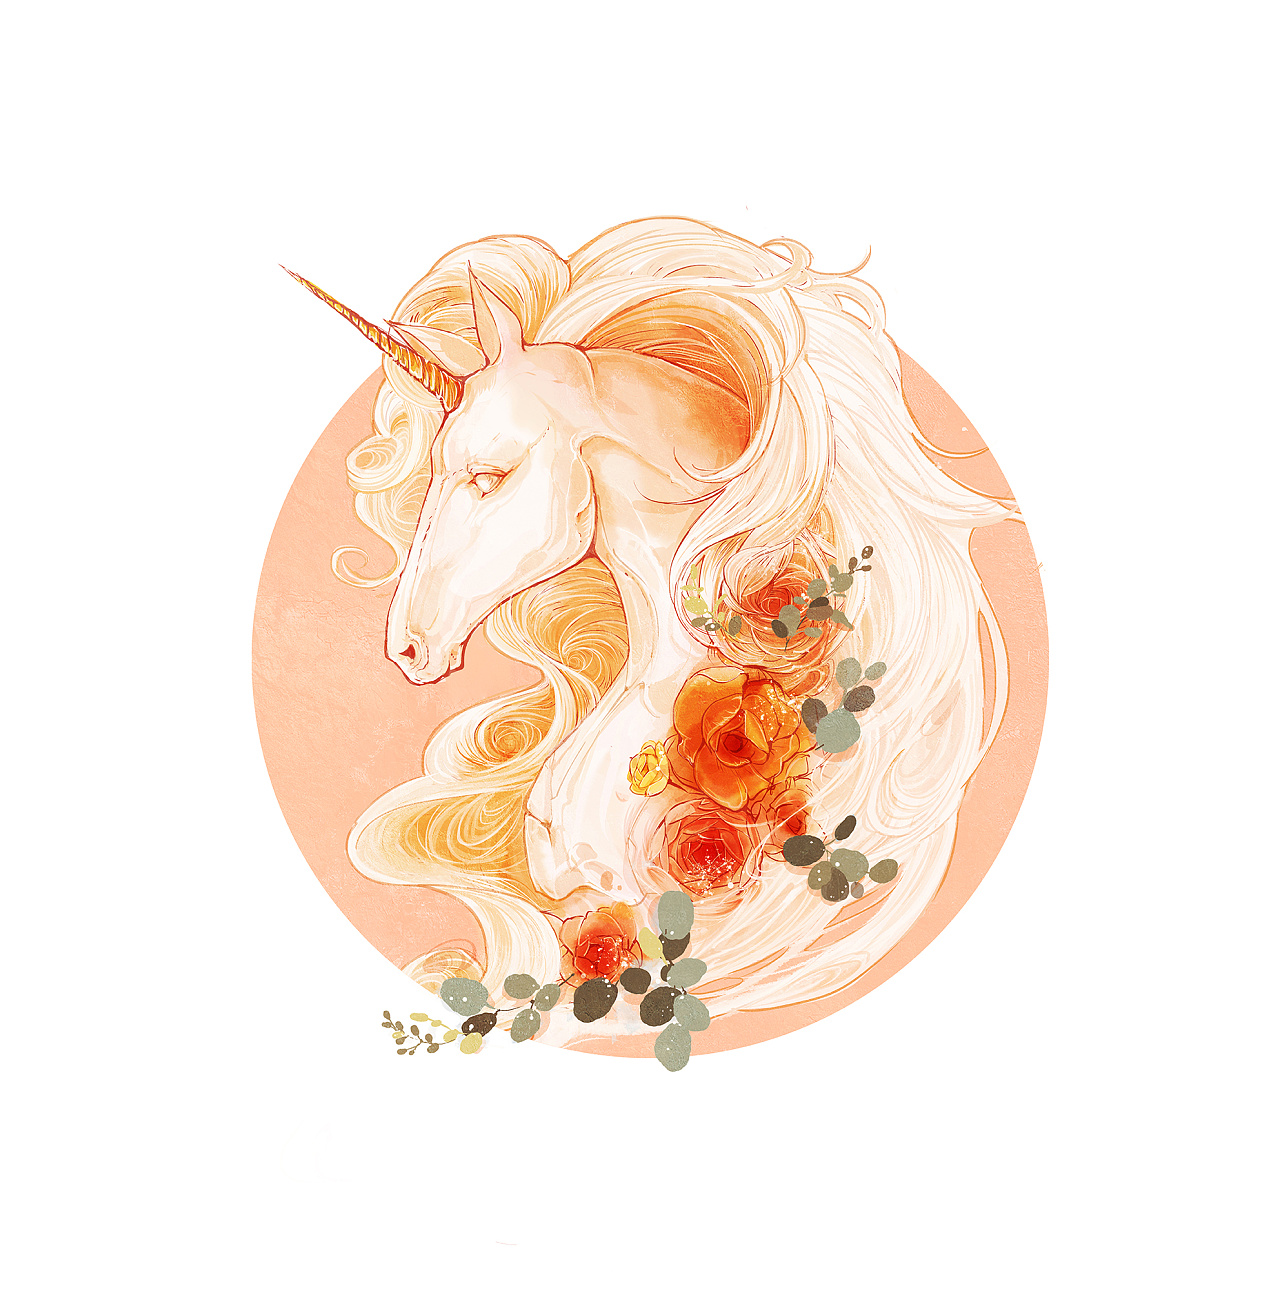background: (248, 190, 1055, 1067)
